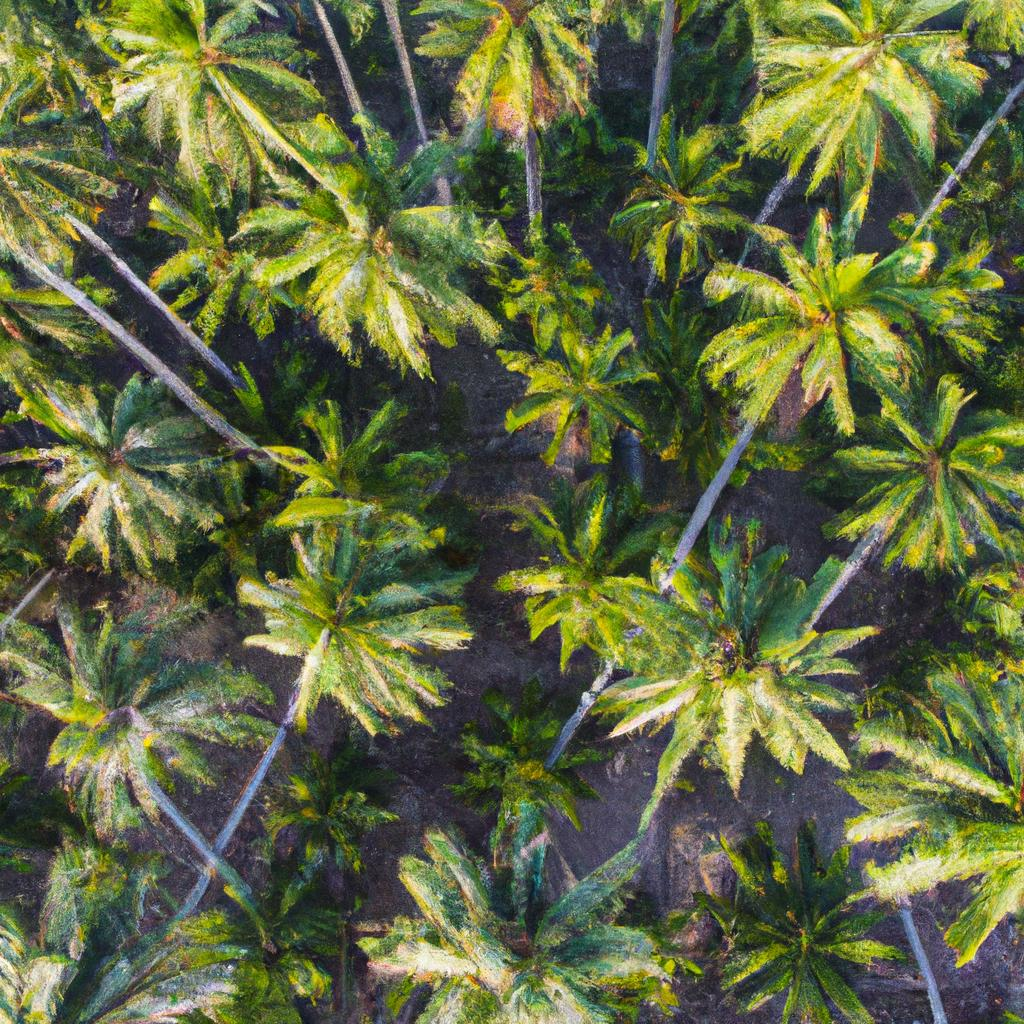coconut_tree: (247, 499, 520, 761), (616, 528, 873, 797), (0, 593, 305, 815), (725, 8, 1005, 210), (276, 138, 514, 373), (695, 218, 951, 434), (87, 8, 376, 183), (8, 359, 232, 575), (685, 831, 898, 1023), (487, 312, 665, 464)
